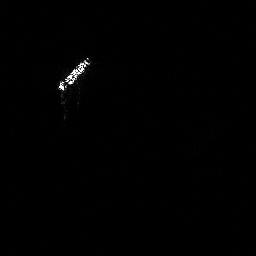ship: (50, 52, 96, 96)
